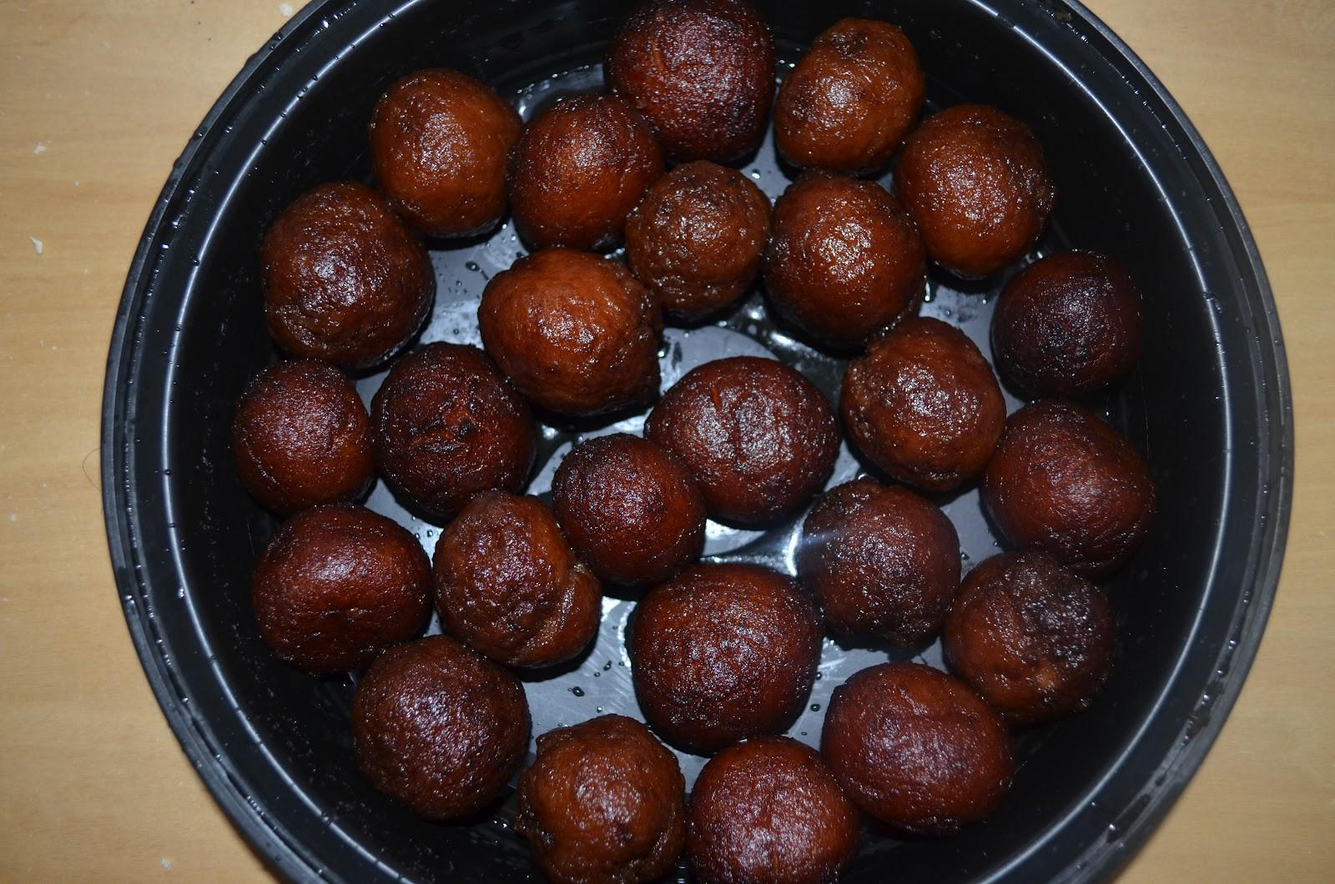GulabJamun: (624, 557, 822, 753), (422, 494, 614, 680), (476, 244, 664, 432), (642, 354, 840, 531), (228, 510, 434, 680), (823, 671, 1020, 842), (360, 646, 534, 836), (975, 404, 1164, 574), (251, 200, 436, 371), (758, 171, 935, 348), (945, 552, 1127, 723), (894, 96, 1062, 275), (787, 488, 972, 648), (848, 321, 1010, 500), (618, 158, 783, 328), (526, 714, 689, 884), (372, 346, 541, 507), (687, 733, 863, 884), (368, 73, 518, 250), (770, 22, 933, 183), (990, 256, 1154, 415), (510, 83, 662, 248), (616, 2, 776, 158), (216, 363, 378, 513), (558, 446, 703, 575)
